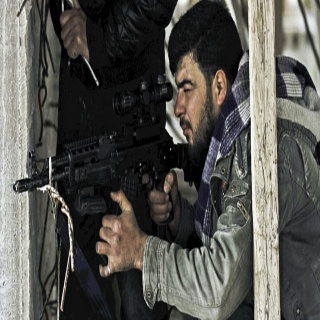rifle: (13, 78, 208, 215)
